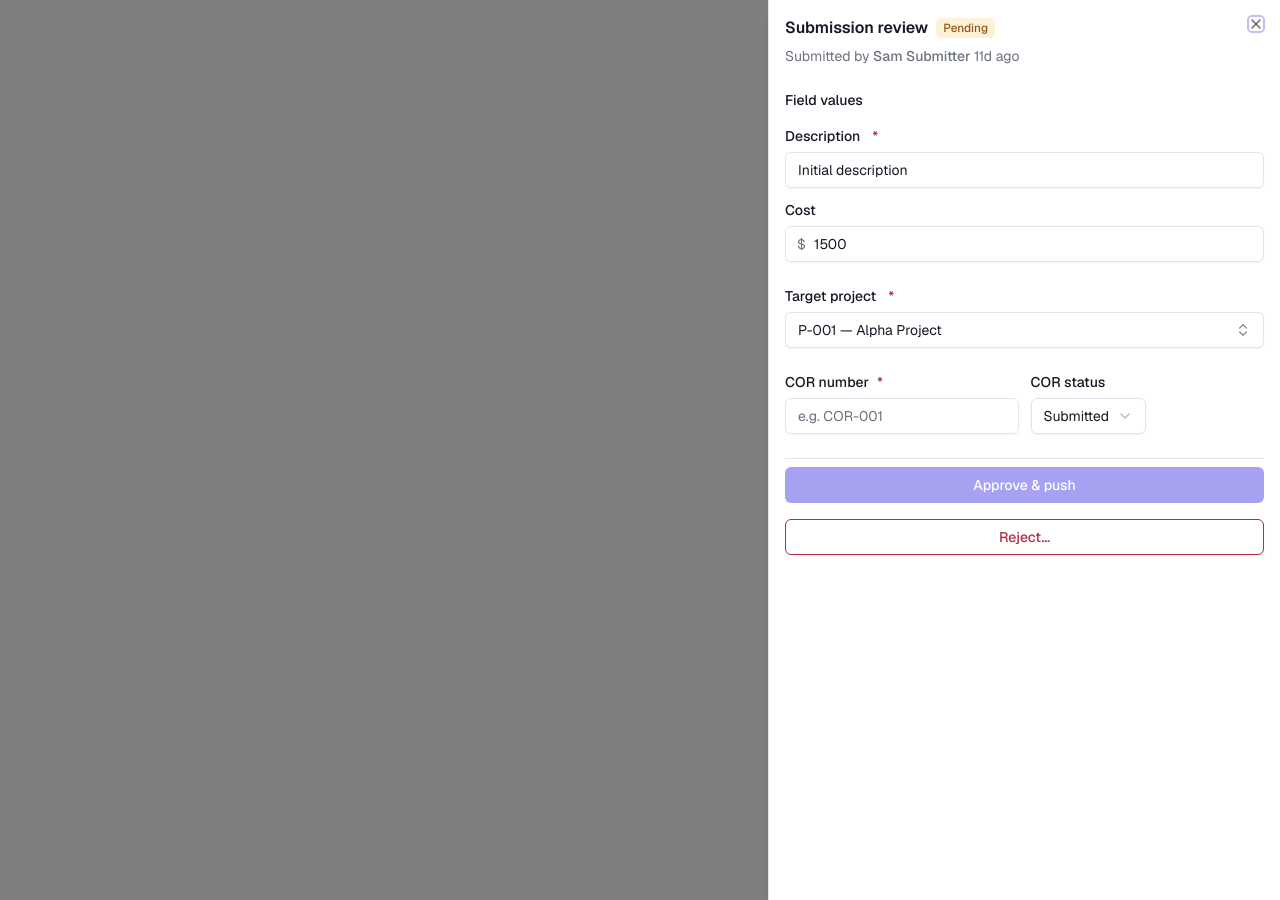
Test: ReviewSheet — Approve & push › Approve & push is enabled when cor_number has no whitespace
Expected: the field showing "Initial description" is shown, [785, 152, 1264, 188]
Note: Fill COR number with hyphens, no spaces
In the field labelled "COR number *": (902, 416) [785, 398, 1018, 434], type "COR-001"
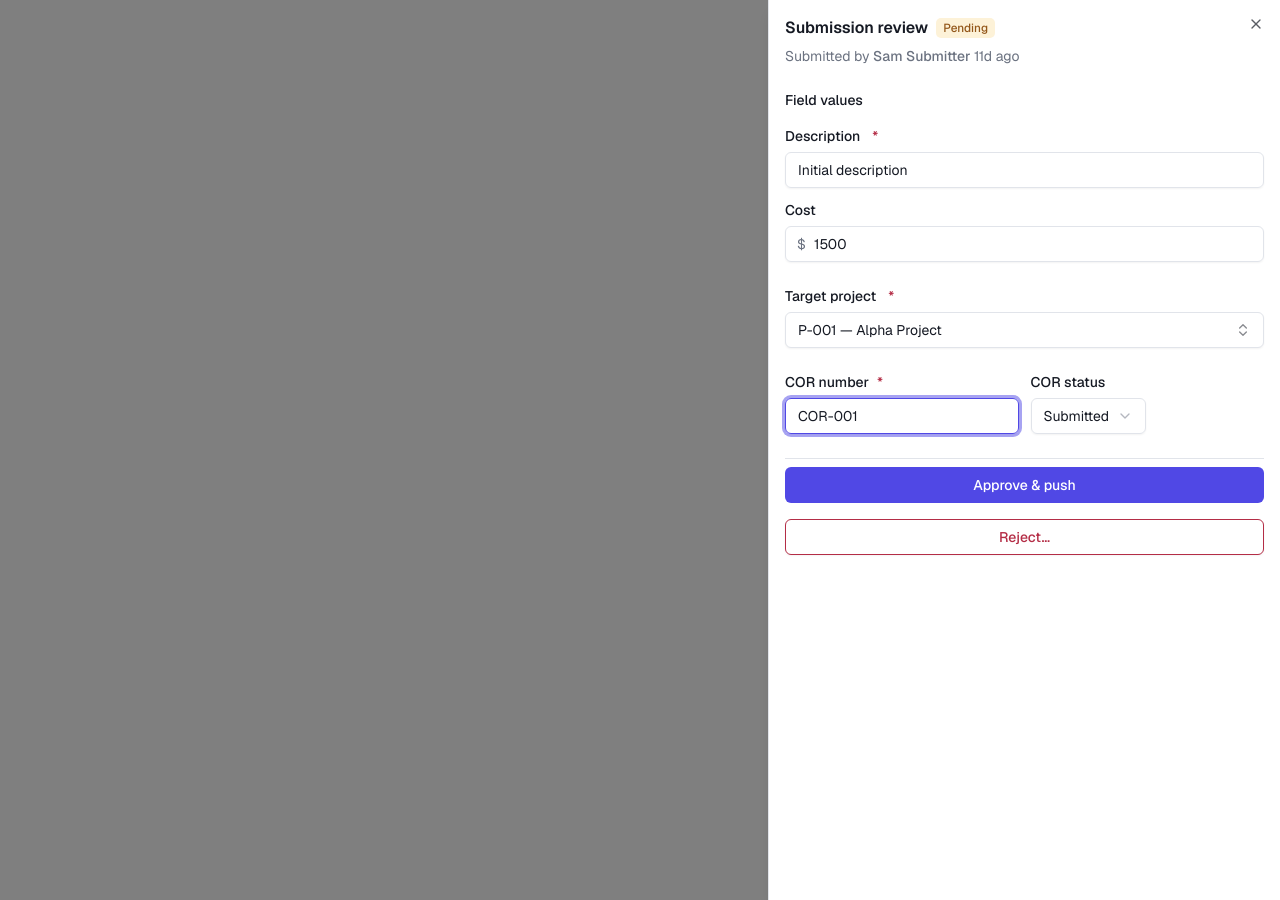
Expected: the button "Approve & push" is enabled, [785, 467, 1264, 503]
